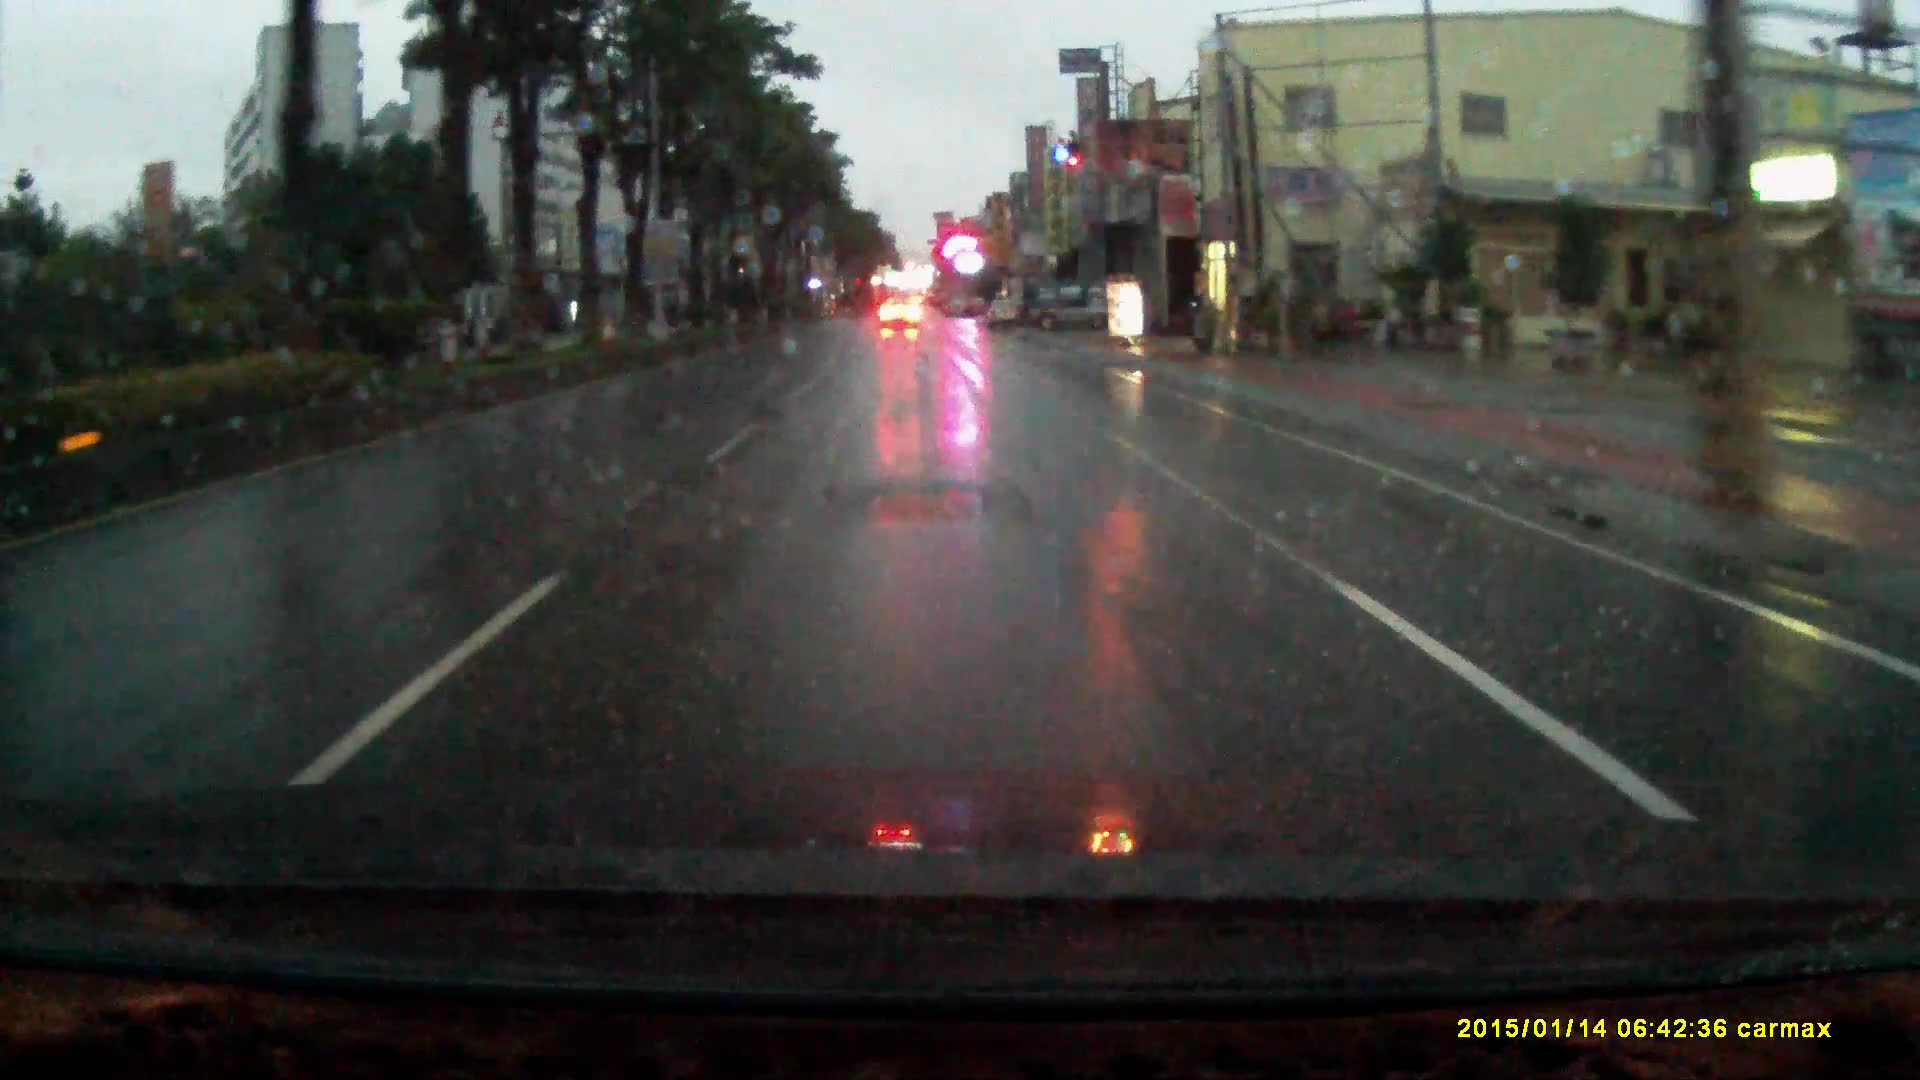vehicle: (1029, 274, 1114, 324), (880, 291, 924, 327)
